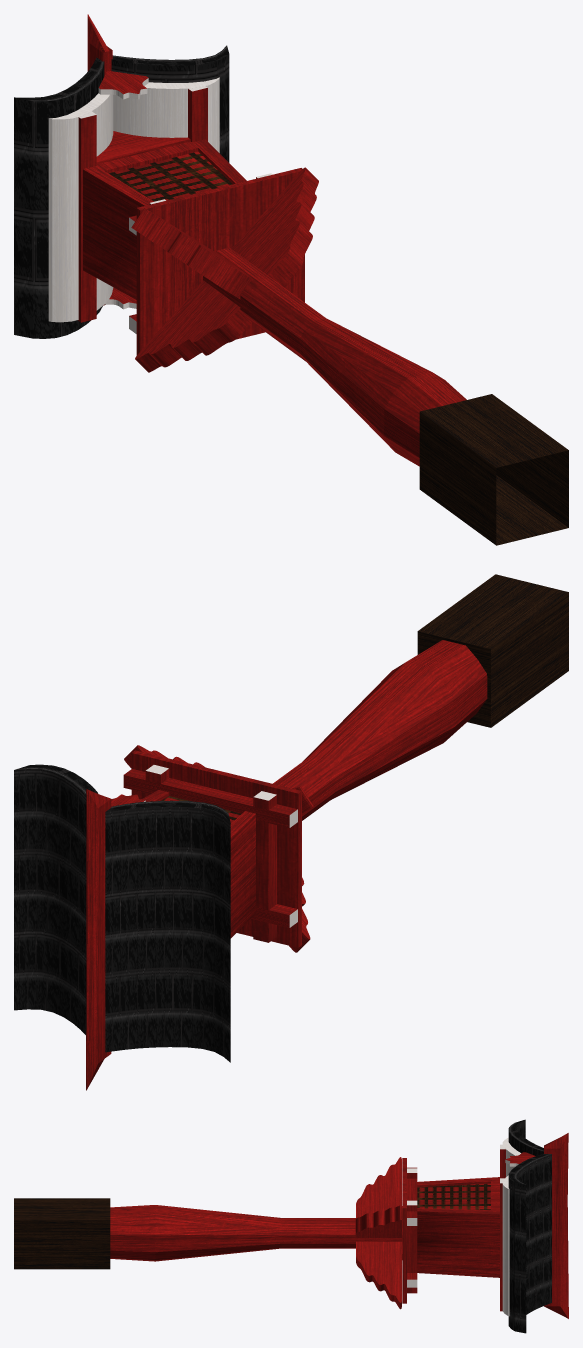
File: LampModel.obj
The picture shows the model from 3 angles, top to bottom: view 1: azimuth 30°, elevation 25°; view 2: azimuth 150°, elevation 25°; view 3: azimuth 270°, elevation 25°; orthographic projection. The views are drawn at different scales.
Parts seen in each view (by area): view 1: Post_Cube, Post, Roof, Under_Roof, Lamp_Body, Base_Plate, Lamp_Wings, Struts, Lamp_Wings_2, Roof_Ornament, Roof_Gap, Cube; view 2: Roof, Post, Post_Cube, Box002, Base_Plate, Cube, Lamp_Body; view 3: Post, Lamp_Body, Roof, Post_Cube, Lamp_Wings_2, Cube, Box002, Under_Roof, Lamp_Wings, Base_Plate, Struts.
Part boxes in pixels (<box>): Post_Cube: <box>419,394,568,545</box>; Post: <box>203,247,466,466</box>; Roof: <box>14,45,229,338</box>; Under_Roof: <box>48,77,219,322</box>; Lamp_Body: <box>83,139,246,299</box>; Base_Plate: <box>136,168,304,355</box>; Lamp_Wings: <box>135,167,318,372</box>; Struts: <box>77,86,207,322</box>; Lamp_Wings_2: <box>131,208,251,299</box>; Roof_Ornament: <box>98,71,148,309</box>; Roof_Gap: <box>96,131,190,164</box>; Cube: <box>87,14,112,305</box>; Roof: <box>14,764,230,1062</box>; Post: <box>273,640,487,820</box>; Post_Cube: <box>417,574,568,727</box>; Box002: <box>123,765,297,942</box>; Base_Plate: <box>131,750,301,947</box>; Cube: <box>86,789,111,1090</box>; Lamp_Body: <box>141,790,255,938</box>; Post: <box>110,1205,402,1261</box>; Lamp_Body: <box>417,1177,499,1277</box>; Roof: <box>508,1119,551,1333</box>; Post_Cube: <box>14,1198,110,1269</box>; Lamp_Wings_2: <box>356,1157,402,1309</box>; Cube: <box>544,1133,568,1318</box>; Box002: <box>407,1167,417,1293</box>; Under_Roof: <box>502,1137,520,1316</box>; Lamp_Wings: <box>355,1205,401,1237</box>; Base_Plate: <box>402,1158,406,1303</box>; Struts: <box>500,1144,505,1311</box>.
Size of the model in its own units: 7.61 by 10.16 by 27.36.
